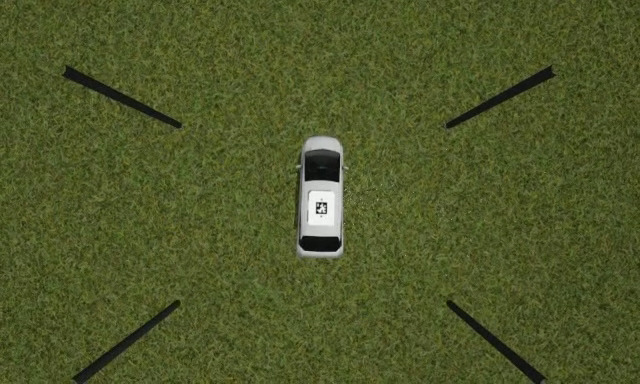Car: (298, 137, 345, 258)
Landing Pad: (308, 189, 335, 226)
